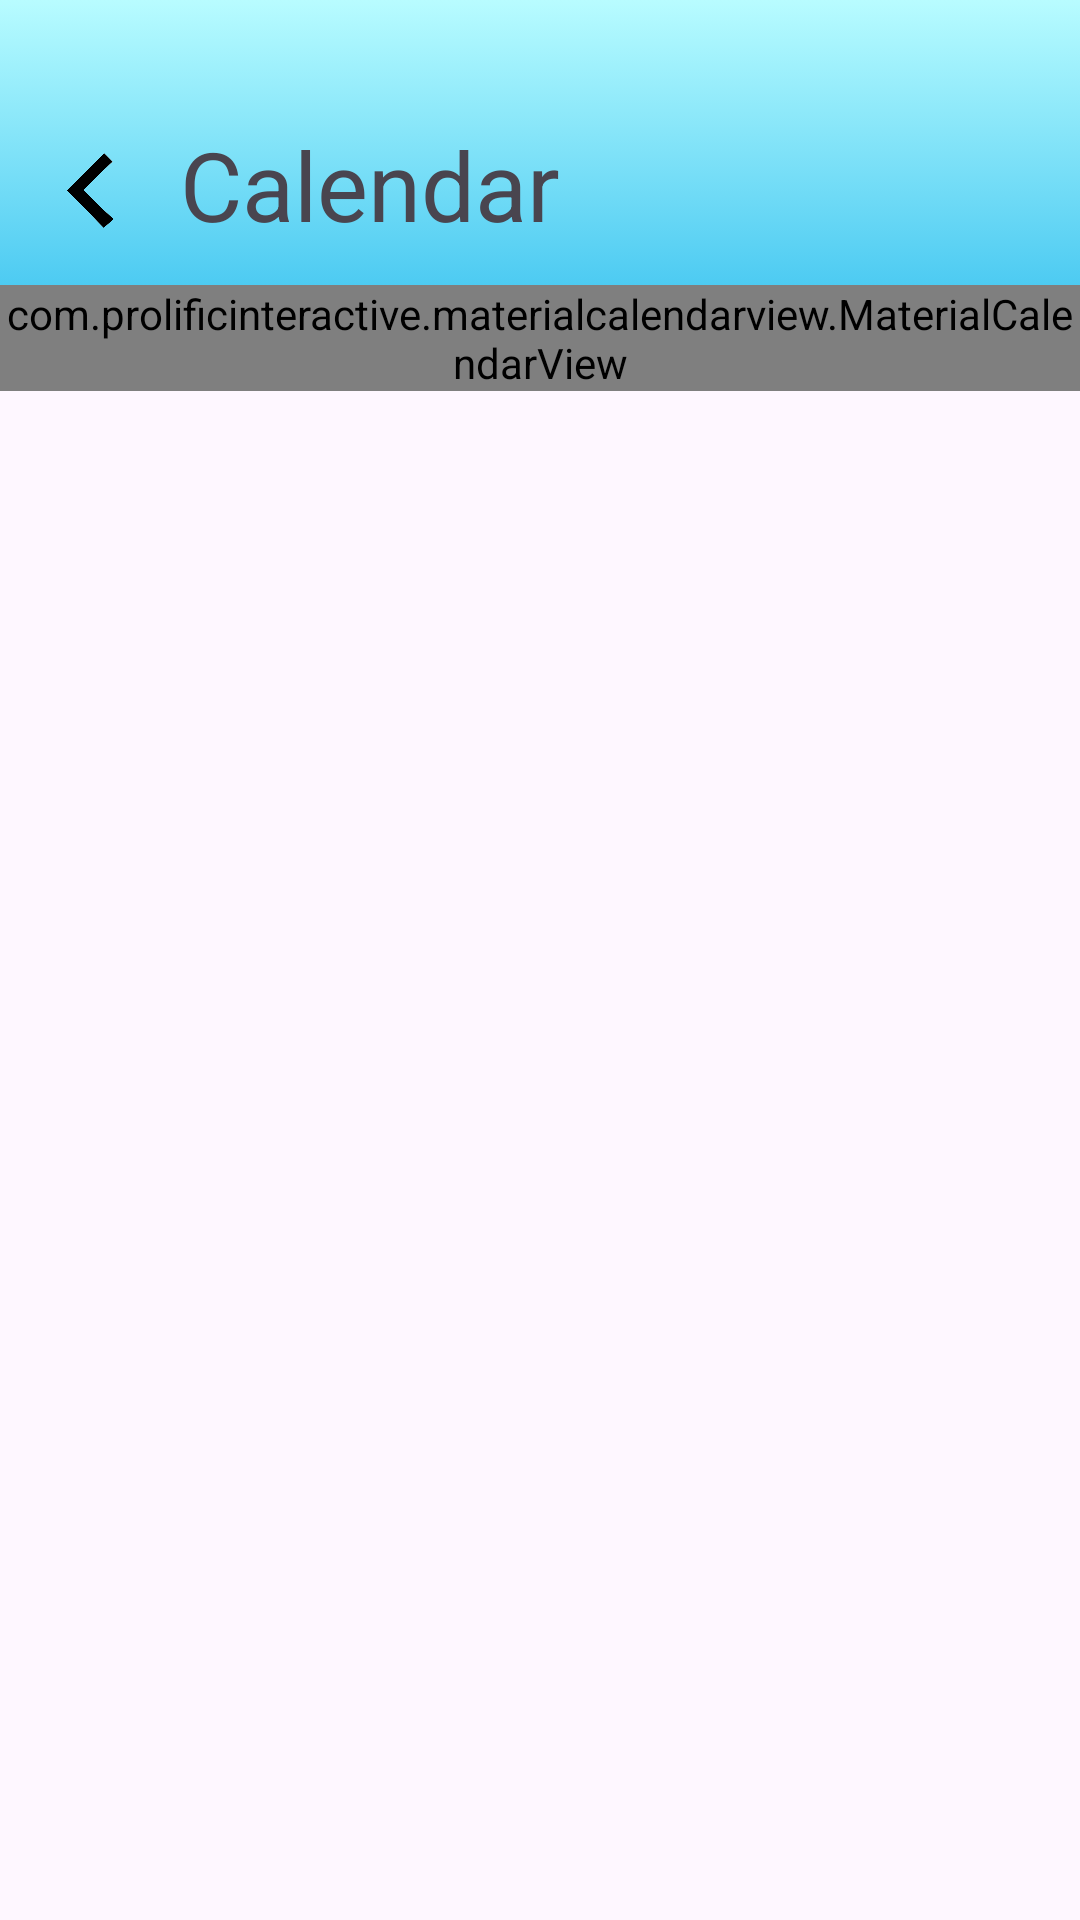

Point at icon controls on the screen. Image size 1080w x 1920h, points as point (x, y).
back arrow: point (90, 202)
